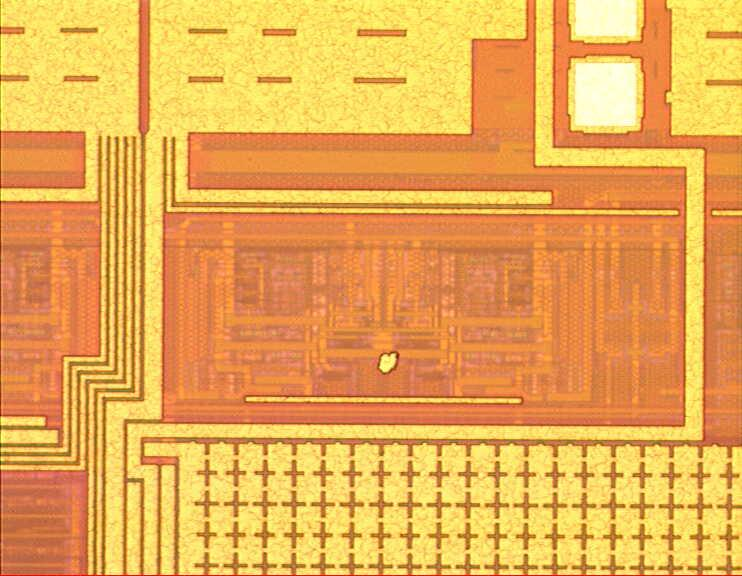BLOCK ETCH: (374, 348, 406, 380)
